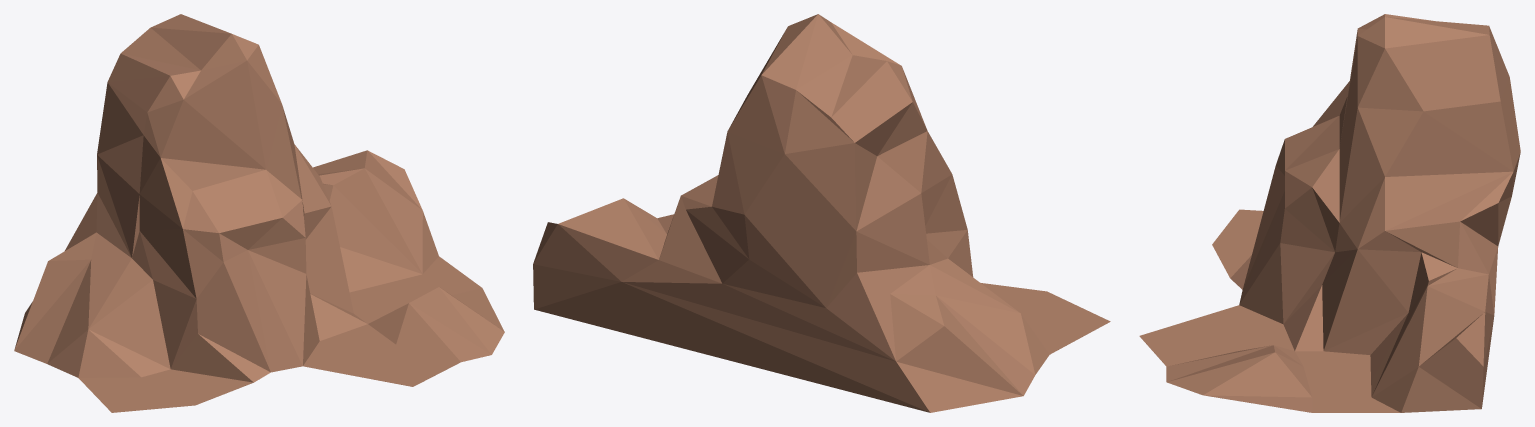
The model's file is 06 Mountain_2.FBX.
3 renders of one model, left to right at view 1: azimuth 30°, elevation 25°; view 2: azimuth 150°, elevation 25°; view 3: azimuth 270°, elevation 25°, orthographic. The views are drawn at different scales.
Visible parts, largest first — view 1: Mountain_2; view 2: Mountain_2; view 3: Mountain_2.
Boxes of the visible parts, <box> form: Mountain_2: <box>14,14,504,412</box>; Mountain_2: <box>533,14,1110,412</box>; Mountain_2: <box>1139,14,1520,412</box>.
Bounding box in the file's own units: 3113 × 2009 × 2410.
